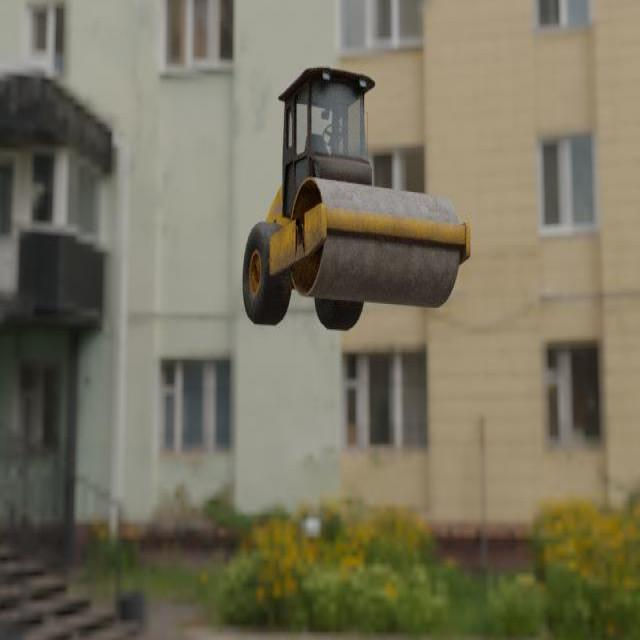Roller: (241, 65, 471, 331)
